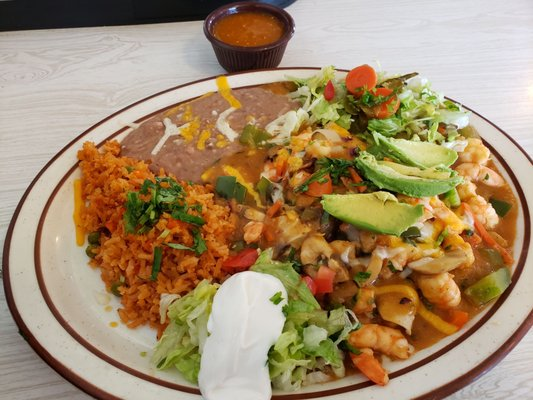sushi: (202, 1, 295, 74)
